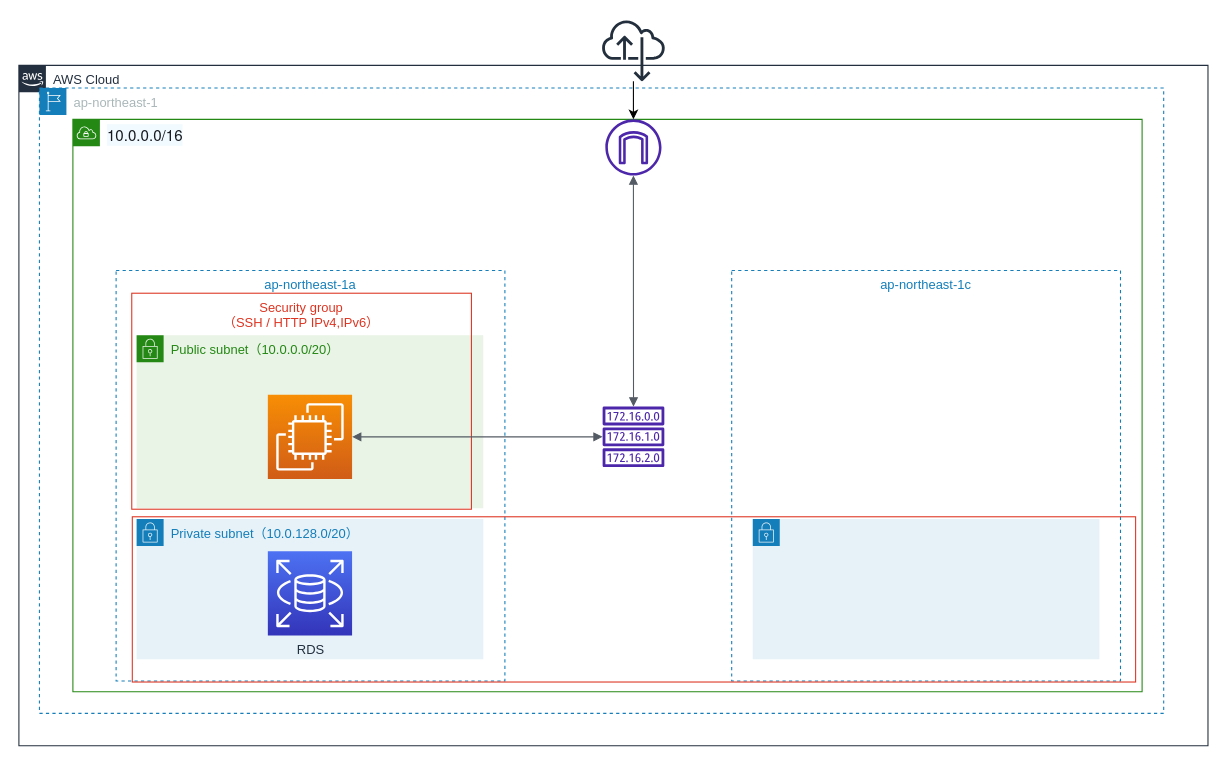
Image size: 1227x765. Some labels were removed from this diagram. Each missing label, with the centre of its shape:
"EC2" belongs at (309,436).
"Internet Gateway" belongs at (633,147).
"Private subnet（10.0.112.0/20）" belongs at (925,588).
"Security group （MYSQL/Aurora）" belongs at (633,599).
"ルートテーブル" belongs at (633,436).
